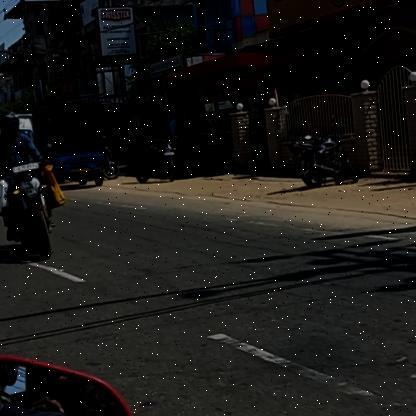motorcycle: (0, 156, 70, 269)
